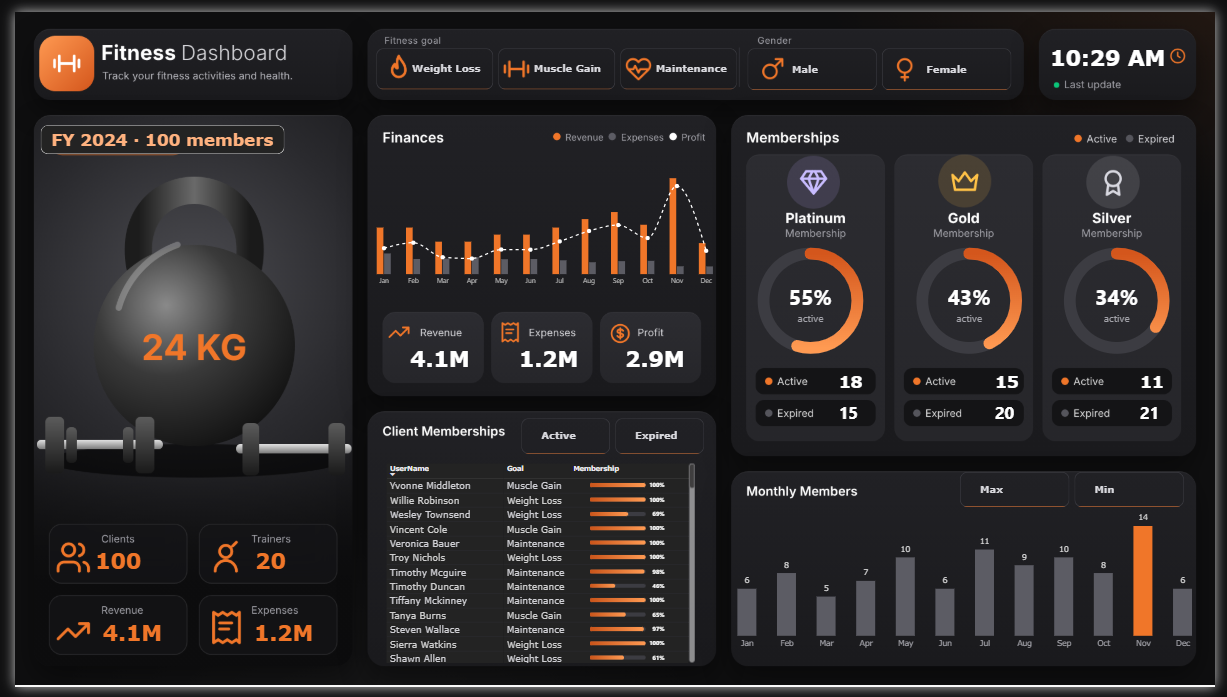

The page's visual inventory and layout, read from the dashboard file:
{"tool":"powerbi","page":{"name":"Overview","canvas":[1920,1080],"ordinal":0},"visuals":[{"type":"advancedSlicerVisual","fields":{"Values":["Users.Goal"]},"box":[557.5,58.3,618.3,66.7],"z":0},{"type":"image","box":[574.2,65.8,80,51.7],"z":1000},{"type":"image","box":[768.6,65.7,68.6,50],"z":2000},{"type":"image","box":[975,70,43.3,43.3],"z":3000},{"type":"advancedSlicerVisual","fields":{"Values":["Users.Gender"]},"box":[1151.4,58.6,462.9,67.1],"z":4000},{"type":"image","box":[1190,70,42.9,42.9],"z":5000},{"type":"image","box":[1402.9,70,42.9,42.9],"z":6000},{"type":"image","box":[30,37.1,105.7,88.6],"z":7000},{"type":"cardVisual","fields":{"Data":["Users.Last Update"]},"box":[1640,28.6,251.4,88.6],"z":8000},{"type":"image","box":[1845.7,48.6,28.6,44.3],"z":9000},{"type":"cardVisual","fields":{"Data":["Users.Total Clients"]},"box":[111.4,842.9,107.1,60],"z":10000},{"type":"image","box":[64.3,837.1,58.6,70],"z":11000},{"type":"cardVisual","fields":{"Data":["Users.Total Trainers"]},"box":[367.1,842.9,107.1,60],"z":12000},{"type":"image","box":[308.6,837.1,58.6,70],"z":13000},{"type":"cardVisual","fields":{"Data":["Users.Revenue"]},"box":[123.3,955,131.7,60],"z":14000},{"type":"image","box":[64.3,955.7,58.6,70],"z":15000},{"type":"cardVisual","fields":{"Data":["Users.Expenses"]},"box":[366.7,955,135,60],"z":16000},{"type":"image","box":[308.6,950,58.6,70],"z":17000},{"type":"tableEx","fields":{"Values":["Users.UserName","Users.Goal","Users.Membership Bar SVG"]},"box":[573.8,708.8,533.8,348.8],"z":18000},{"type":"advancedSlicerVisual","fields":{"Values":["Users.Status"]},"box":[790,650,333.8,57.5],"z":19000},{"type":"image","box":[0,93.3,573.3,986.7],"z":20000},{"type":"lineClusteredColumnComboChart","fields":{"Category":["Date.MonthName"],"Y":["Users.Revenue","Users.Expenses"],"Y2":["Users.Profit"]},"box":[543.3,238.3,608.3,220],"z":21000},{"type":"cardVisual","fields":{"Data":["Users.Revenue"]},"box":[615,515,128.3,76.7],"z":22000},{"type":"image","box":[596.7,486.7,36.7,53.3],"z":23000},{"type":"image","box":[773.3,486.7,35,53.3],"z":24000},{"type":"cardVisual","fields":{"Data":["Users.Expenses"]},"box":[790,515,128.3,76.7],"z":25000},{"type":"image","box":[941.7,495,53.3,36.7],"z":26000},{"type":"cardVisual","fields":{"Data":["Users.Profit"]},"box":[960,515,131.7,76.7],"z":27000},{"type":"image","box":[1140,230,275,85],"z":28000},{"type":"image","box":[1373.3,228.3,291.7,85],"z":29000},{"type":"image","box":[1605,230,301.7,85],"z":30000},{"type":"image","box":[1161.7,366.7,221.7,191.7],"z":31000},{"type":"image","box":[1415,366.7,221.7,191.7],"z":32000},{"type":"image","box":[1651.7,366.7,221.7,191.7],"z":33000},{"type":"clusteredColumnChart","fields":{"Category":["Date.MonthName"],"Y":["Users.New Members"]},"box":[1135,775,768.3,261.7],"z":34000},{"type":"advancedSlicerVisual","fields":{"Values":["Highlight.Mode"]},"box":[1492,736,398,56],"z":35000},{"type":"cardVisual","fields":{"Data":["Users.Active Members"]},"box":[1301.7,571.7,71.7,38.3],"z":36000},{"type":"cardVisual","fields":{"Data":["Users.Expired Members"]},"box":[1301.7,610,71.7,60],"z":37000},{"type":"cardVisual","fields":{"Data":["Users.Active Members"]},"box":[1551.7,571.7,71.7,38.3],"z":38000},{"type":"cardVisual","fields":{"Data":["Users.Expired Members"]},"box":[1551.7,610,71.7,60],"z":39000},{"type":"cardVisual","fields":{"Data":["Users.Active Members"]},"box":[1783.3,571.7,71.7,38.3],"z":40000},{"type":"cardVisual","fields":{"Data":["Users.Expired Members"]},"box":[1783.3,610,71.7,60],"z":41000},{"type":"cardVisual","fields":{"Data":["Users.Badge Text"]},"box":[38,178,396,52],"z":42000}]}

Visuals, with their boxes in screenshot pixels (x1, y1, x2, y2), scaled from the page's 1920x1080 canvas onto the 1227x697 screenshot:
advancedSlicerVisual - Users.Goal: l=356, t=38, r=751, b=81
image: l=367, t=42, r=418, b=76
image: l=491, t=42, r=535, b=75
image: l=623, t=45, r=651, b=73
advancedSlicerVisual - Users.Gender: l=736, t=38, r=1032, b=81
image: l=760, t=45, r=788, b=73
image: l=897, t=45, r=924, b=73
image: l=19, t=24, r=87, b=81
cardVisual - Users.Last Update: l=1048, t=18, r=1209, b=76
image: l=1180, t=31, r=1198, b=60
cardVisual - Users.Total Clients: l=71, t=544, r=140, b=583
image: l=41, t=540, r=79, b=585
cardVisual - Users.Total Trainers: l=235, t=544, r=303, b=583
image: l=197, t=540, r=235, b=585
cardVisual - Users.Revenue: l=79, t=616, r=163, b=655
image: l=41, t=617, r=79, b=662
cardVisual - Users.Expenses: l=234, t=616, r=321, b=655
image: l=197, t=613, r=235, b=658
tableEx - Users.UserName x Users.Goal: l=367, t=457, r=708, b=683
advancedSlicerVisual - Users.Status: l=505, t=419, r=718, b=457
image: l=0, t=60, r=366, b=696
lineClusteredColumnComboChart - Date.MonthName x Users.Revenue: l=347, t=154, r=736, b=296
cardVisual - Users.Revenue: l=393, t=332, r=475, b=382
image: l=381, t=314, r=405, b=348
image: l=494, t=314, r=517, b=348
cardVisual - Users.Expenses: l=505, t=332, r=587, b=382
image: l=602, t=319, r=636, b=343
cardVisual - Users.Profit: l=614, t=332, r=698, b=382
image: l=729, t=148, r=904, b=203
image: l=878, t=147, r=1064, b=202
image: l=1026, t=148, r=1219, b=203
image: l=742, t=237, r=884, b=360
image: l=904, t=237, r=1046, b=360
image: l=1056, t=237, r=1197, b=360
clusteredColumnChart - Date.MonthName x Users.New Members: l=725, t=500, r=1216, b=669
advancedSlicerVisual - Highlight.Mode: l=953, t=475, r=1208, b=511
cardVisual - Users.Active Members: l=832, t=369, r=878, b=394
cardVisual - Users.Expired Members: l=832, t=394, r=878, b=432
cardVisual - Users.Active Members: l=992, t=369, r=1037, b=394
cardVisual - Users.Expired Members: l=992, t=394, r=1037, b=432
cardVisual - Users.Active Members: l=1140, t=369, r=1185, b=394
cardVisual - Users.Expired Members: l=1140, t=394, r=1185, b=432
cardVisual - Users.Badge Text: l=24, t=115, r=277, b=148
